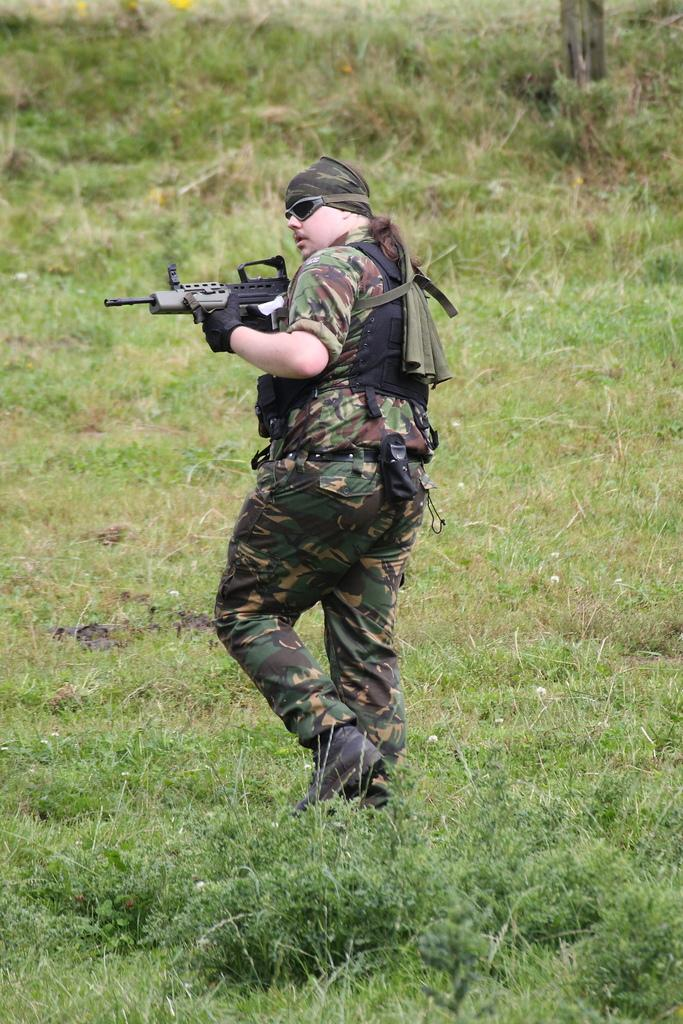Rifle: (104, 254, 290, 327)
